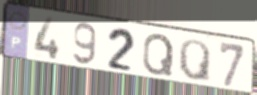2: (103, 26, 139, 76)
4: (31, 15, 64, 63)
7: (218, 40, 247, 89)
9: (72, 21, 98, 66)
Q: (177, 38, 213, 85), (140, 32, 176, 77)
